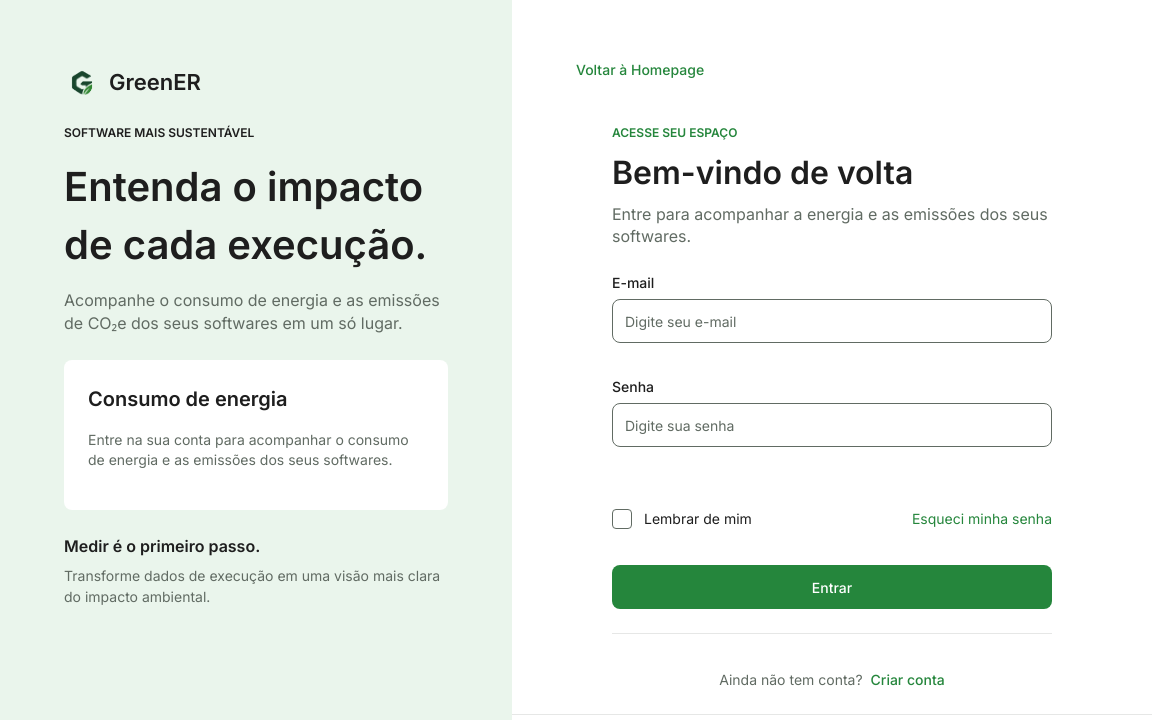
Test: login com credenciais inválidas (401) mantém usuário no formulário e exibe 'E-mail ou senha inválidos'
This screenshot has width=1152, height=720.
Step 1. Type "errado@exemplo.com" into the field labelled "E-mail" → (832, 321), box x1=612 y1=299 x2=1052 y2=343
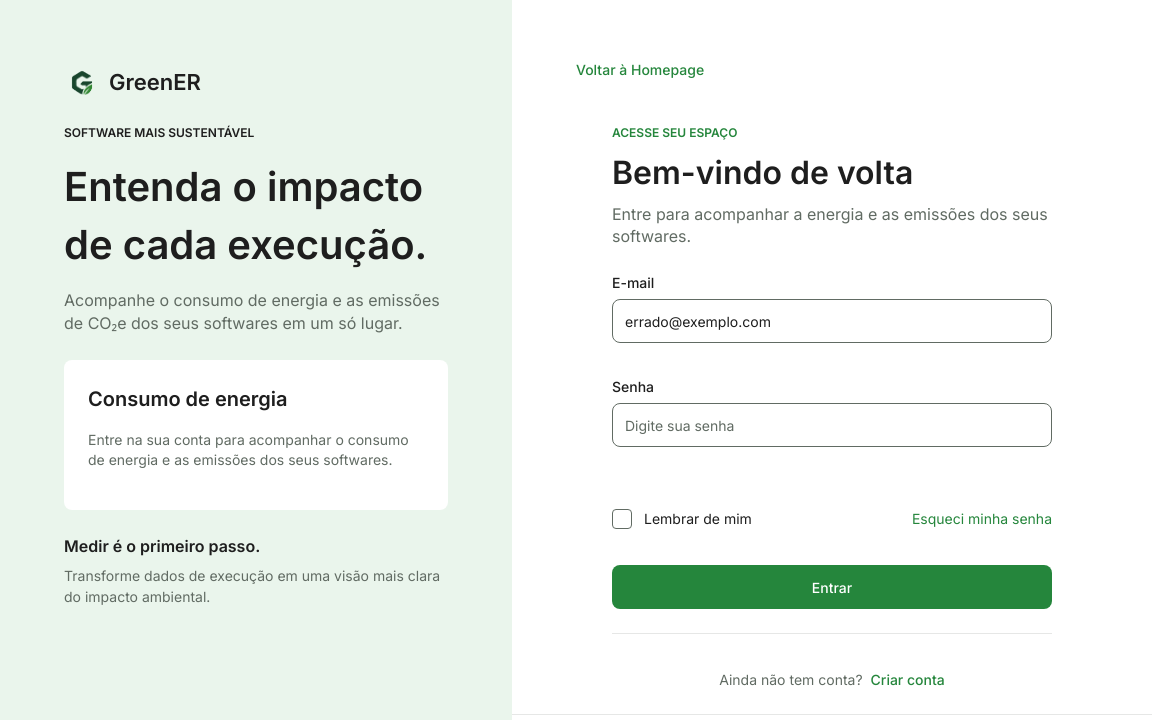
Step 2. Type "senhaerrada" into the password field labelled "Senha" → (832, 425), box x1=612 y1=403 x2=1052 y2=447
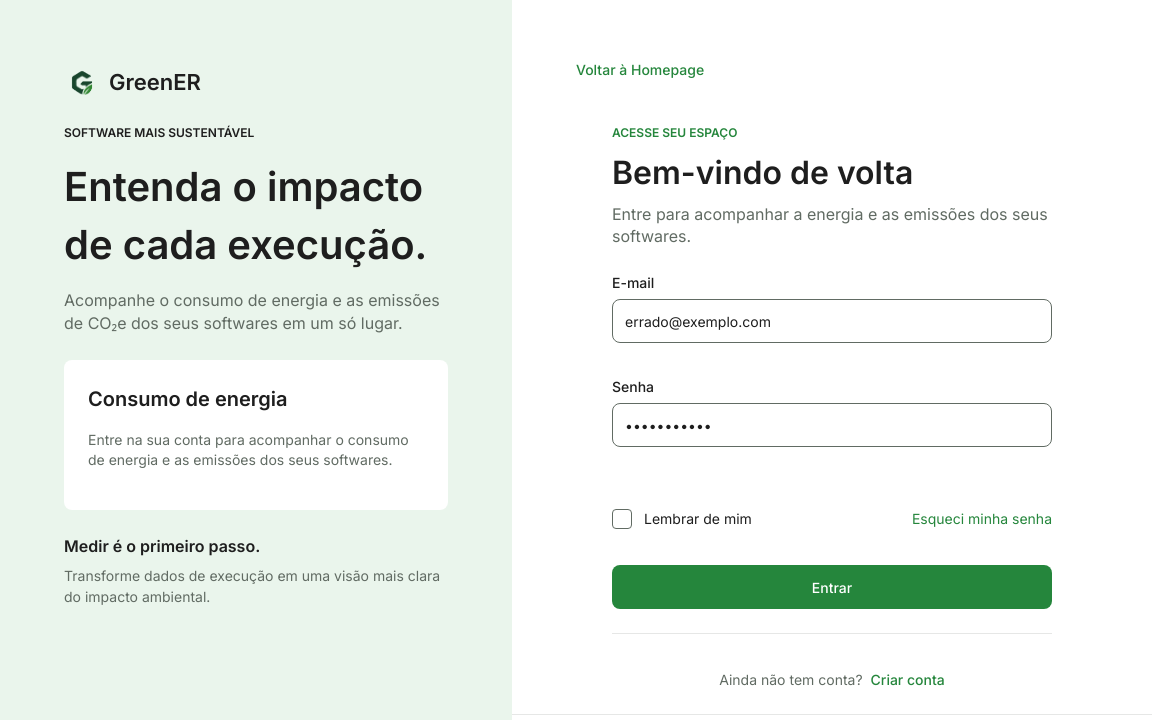
Step 3. Click the button "Entrar" → (832, 587), box x1=612 y1=565 x2=1052 y2=609
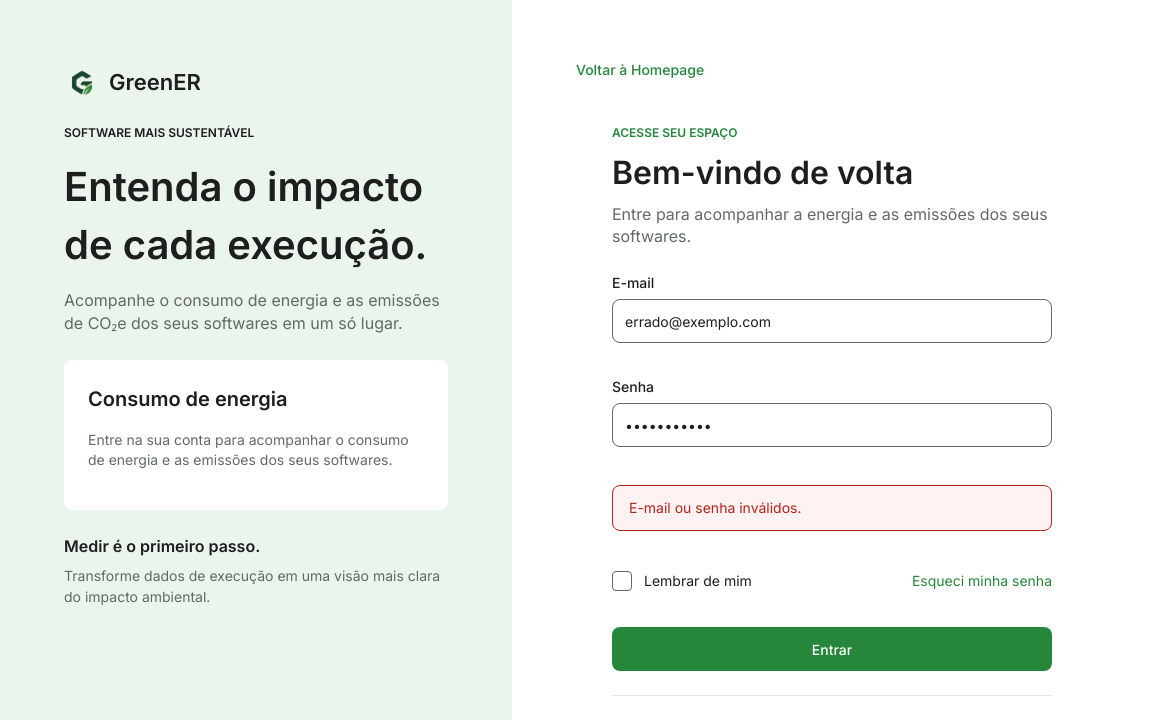
Check: the message reads "E-mail ou senha inválidos.", box x1=629 y1=499 x2=802 y2=516
